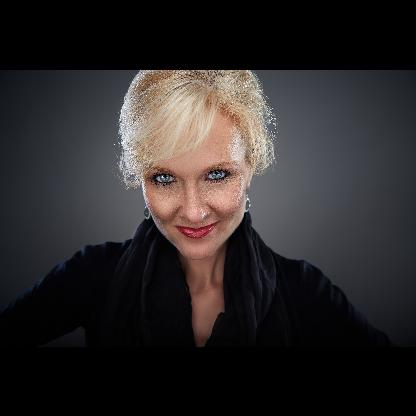Female: (142, 101, 252, 259)
